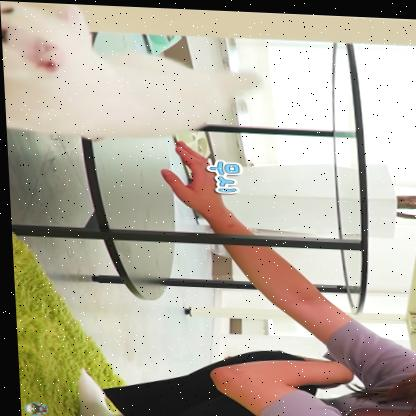streamer: (64, 134, 416, 416)
